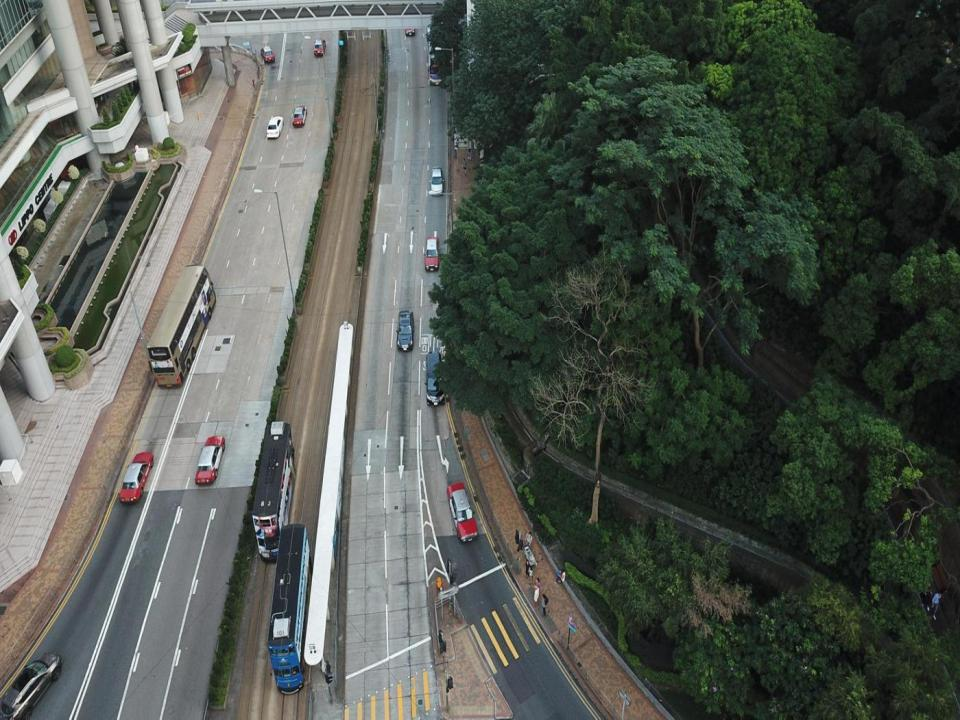bus: (146, 265, 216, 387), (269, 524, 313, 694), (252, 420, 299, 561), (426, 20, 446, 86)
car: (1, 652, 62, 718), (446, 482, 478, 542), (119, 452, 154, 504), (195, 435, 225, 484), (396, 310, 414, 352), (423, 237, 440, 270), (430, 166, 443, 194), (267, 117, 284, 137), (293, 105, 306, 127), (313, 38, 326, 56), (261, 46, 274, 61), (405, 20, 415, 36)
van: (424, 352, 444, 406)
